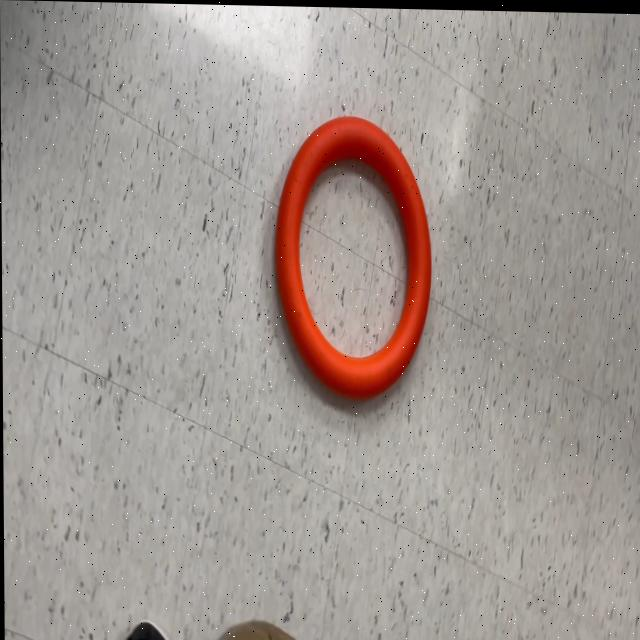note: (273, 110, 434, 402)
